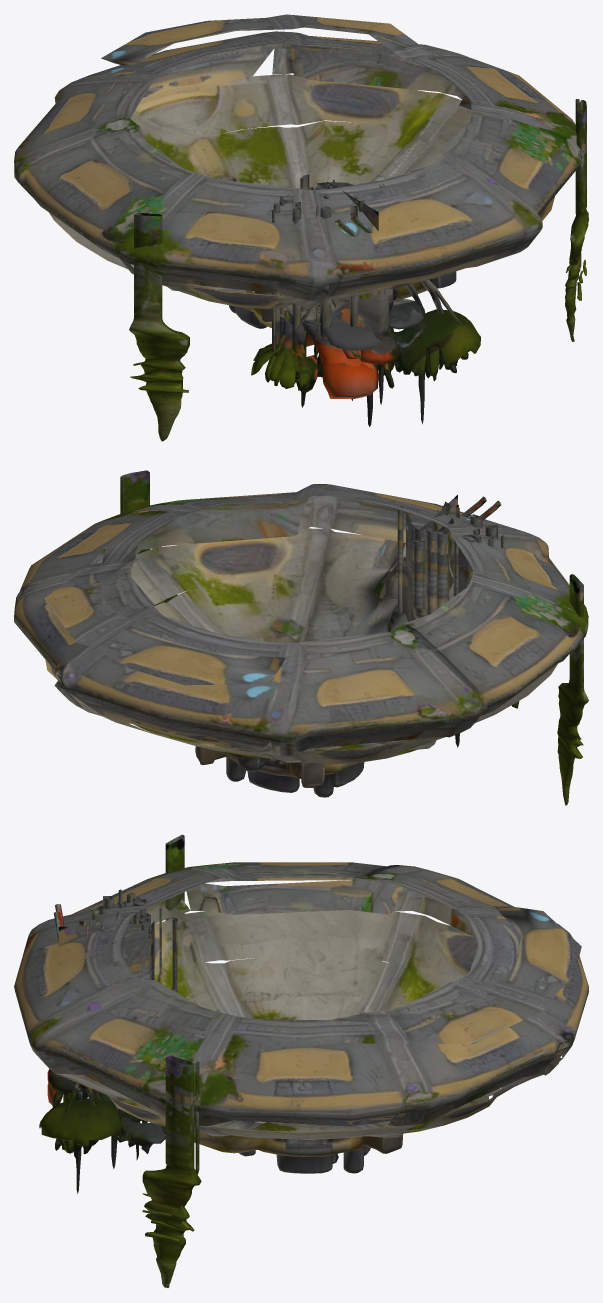
Rendered from Ancient_Overgrown_Jungle_UFO_LOD1.glb.
3 views of the same model, one above another, from view 1: azimuth 30°, elevation 25°; view 2: azimuth 150°, elevation 25°; view 3: azimuth 270°, elevation 25° (orthographic). The views are drawn at different scales.
Visible parts, largest first — view 1: tripo_node_2fbd0e1b-c92b-4dfb-9167-9438ce151480; view 2: tripo_node_2fbd0e1b-c92b-4dfb-9167-9438ce151480; view 3: tripo_node_2fbd0e1b-c92b-4dfb-9167-9438ce151480.
Part boxes in pixels (x1,y1,x2,y2): tripo_node_2fbd0e1b-c92b-4dfb-9167-9438ce151480: (14,14,588,441); tripo_node_2fbd0e1b-c92b-4dfb-9167-9438ce151480: (14,470,588,805); tripo_node_2fbd0e1b-c92b-4dfb-9167-9438ce151480: (14,834,588,1287).
Size of the model in its own units: 0.9432 by 0.4384 by 0.9354.
Materials: 1 (1 with a texture image).
